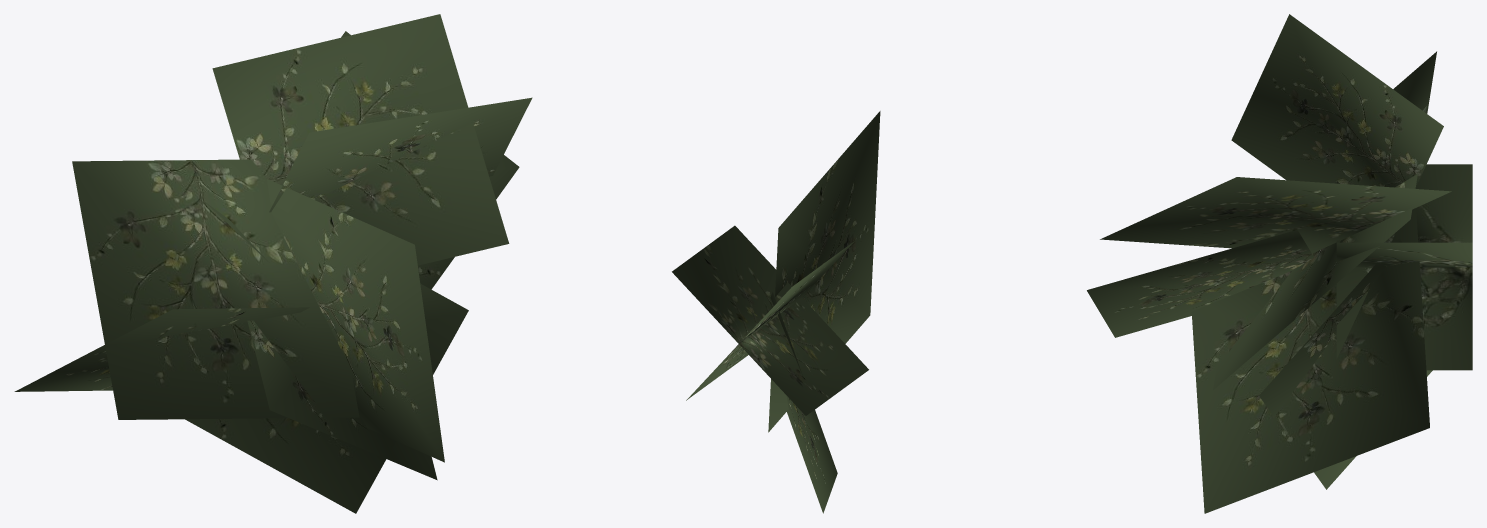
Rendered from shadow_caen_spikeybush_01.glb.
The picture shows the model from 3 angles, left to right: view 1: azimuth 30°, elevation 25°; view 2: azimuth 150°, elevation 25°; view 3: azimuth 270°, elevation 25°; orthographic projection. The views are drawn at different scales.
Bounding box in the file's own units: 173 × 155 × 112.
1 material, 1 textured.
